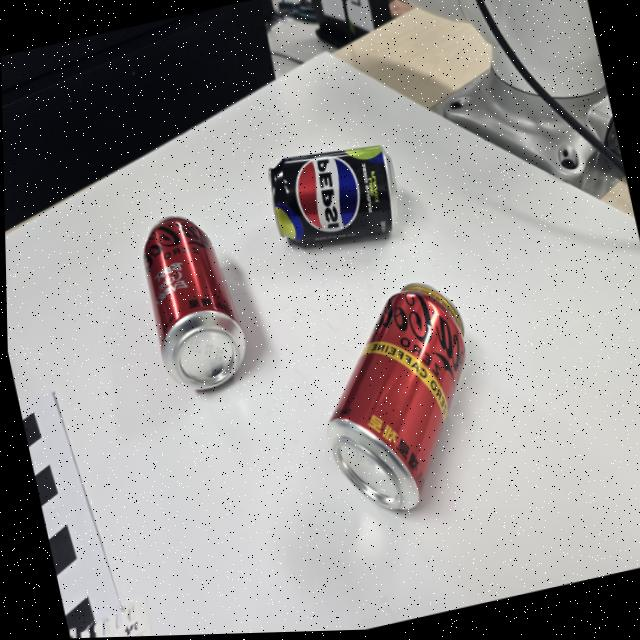can_coke_decaf: (326, 281, 470, 515)
can_coke_zero: (140, 213, 245, 394)
can_pepsi_zero: (270, 142, 402, 248)
